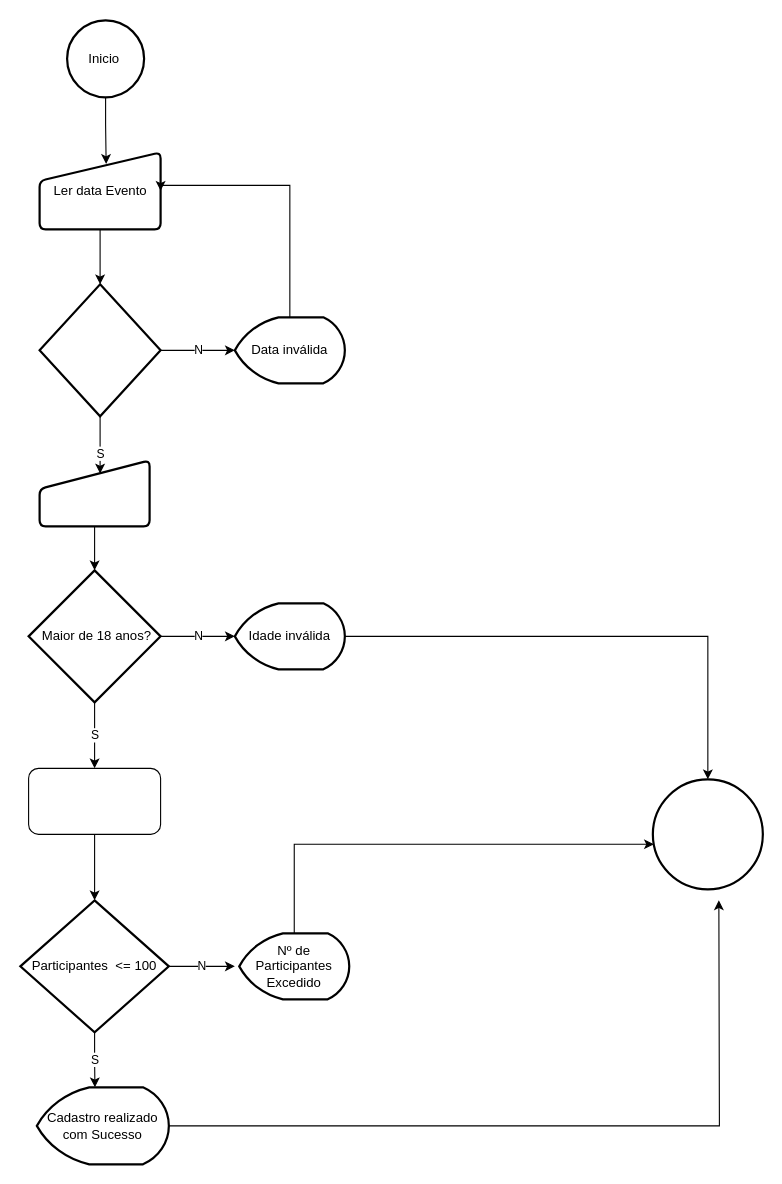
Image size: 782x1184. Some labels were removed from this diagram. Each missing label, with the centre of its shape:
dataEvento posterior a dataAtual?: the point at 99,350
Fim: the point at 707,834
Ler idade: the point at 94,493
Participante = Participante +1: the point at 94,800
